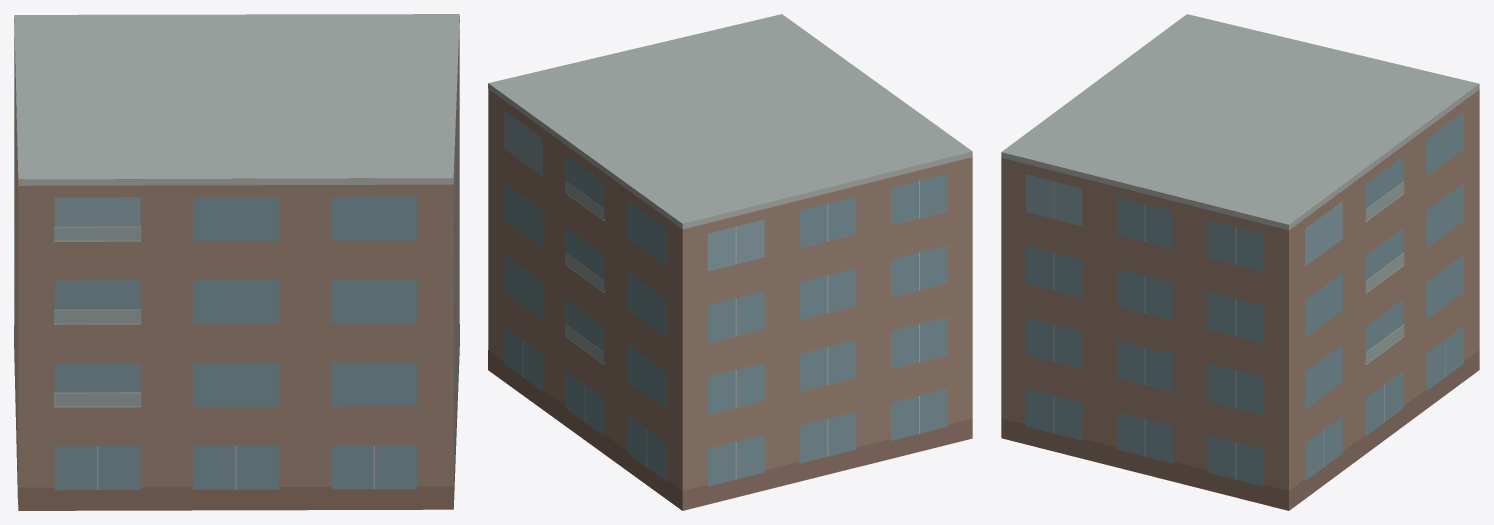
File: survey-upis-32709503.glb
3 views of the same model, side by side, from view 1: azimuth 30°, elevation 25°; view 2: azimuth 150°, elevation 25°; view 3: azimuth 270°, elevation 25° (orthographic). The views are drawn at different scales.
Visible parts, largest first — view 1: survey-upis-32709503.tmp; view 2: survey-upis-32709503.tmp; view 3: survey-upis-32709503.tmp.
Boxes of the visible parts, x1,y1,x2,y2 form: survey-upis-32709503.tmp: [14, 14, 459, 510]; survey-upis-32709503.tmp: [488, 14, 972, 510]; survey-upis-32709503.tmp: [1001, 14, 1479, 510].
Bounding box in the file's own units: 19.84 × 12.55 × 19.03.
